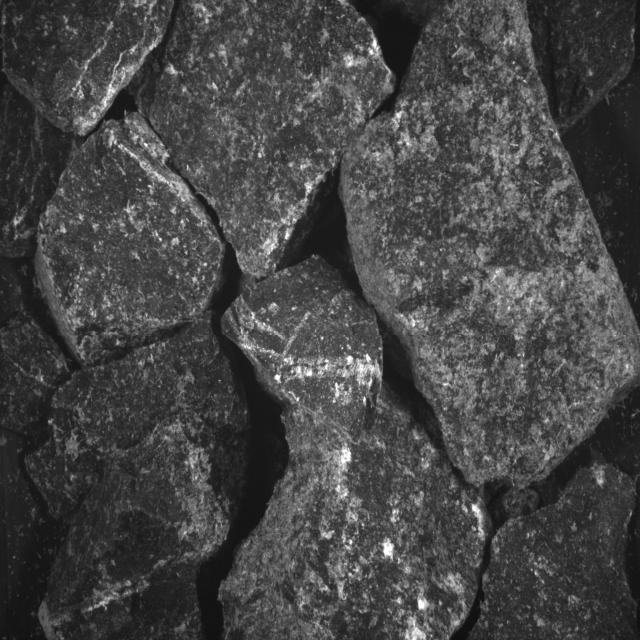Stones: (342, 3, 640, 487), (30, 319, 250, 640), (220, 385, 491, 640), (150, 1, 395, 278), (36, 115, 225, 366), (470, 461, 639, 640), (222, 257, 384, 439), (2, 1, 175, 137)
